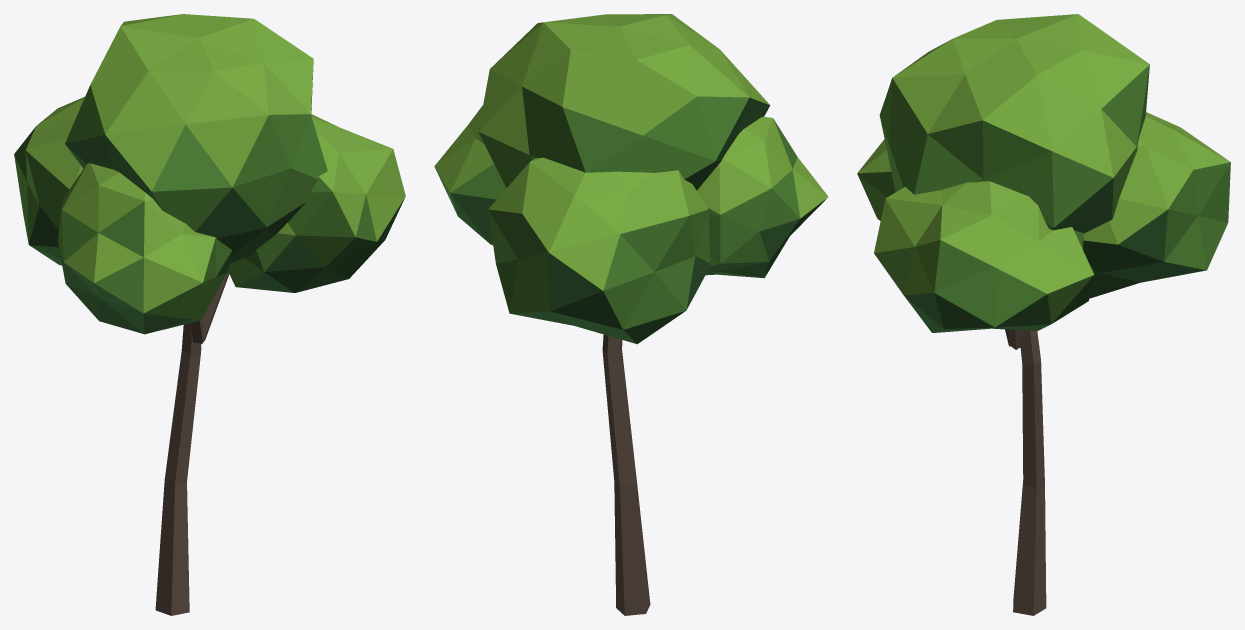
The model's file is T12_Sapling.glb.
3 views of the same model, side by side, from view 1: azimuth 30°, elevation 25°; view 2: azimuth 150°, elevation 25°; view 3: azimuth 270°, elevation 25° (orthographic).
Parts seen in each view (by area): view 1: T12_Sapling; view 2: T12_Sapling; view 3: T12_Sapling.
Boxes of the visible parts, x1=… form: T12_Sapling: x1=14, y1=14, x2=405, y2=615; T12_Sapling: x1=434, y1=14, x2=828, y2=615; T12_Sapling: x1=857, y1=14, x2=1230, y2=615.
Size of the model in its own units: 1.6 by 2.6 by 1.51.
